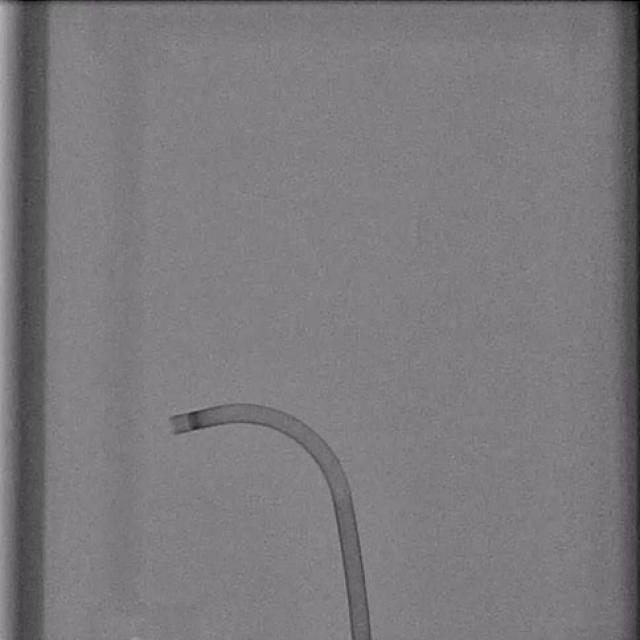bend: (330, 485, 352, 499)
entry: (350, 634, 372, 640)
marker: (187, 412, 202, 431)
tip: (168, 417, 180, 433)
